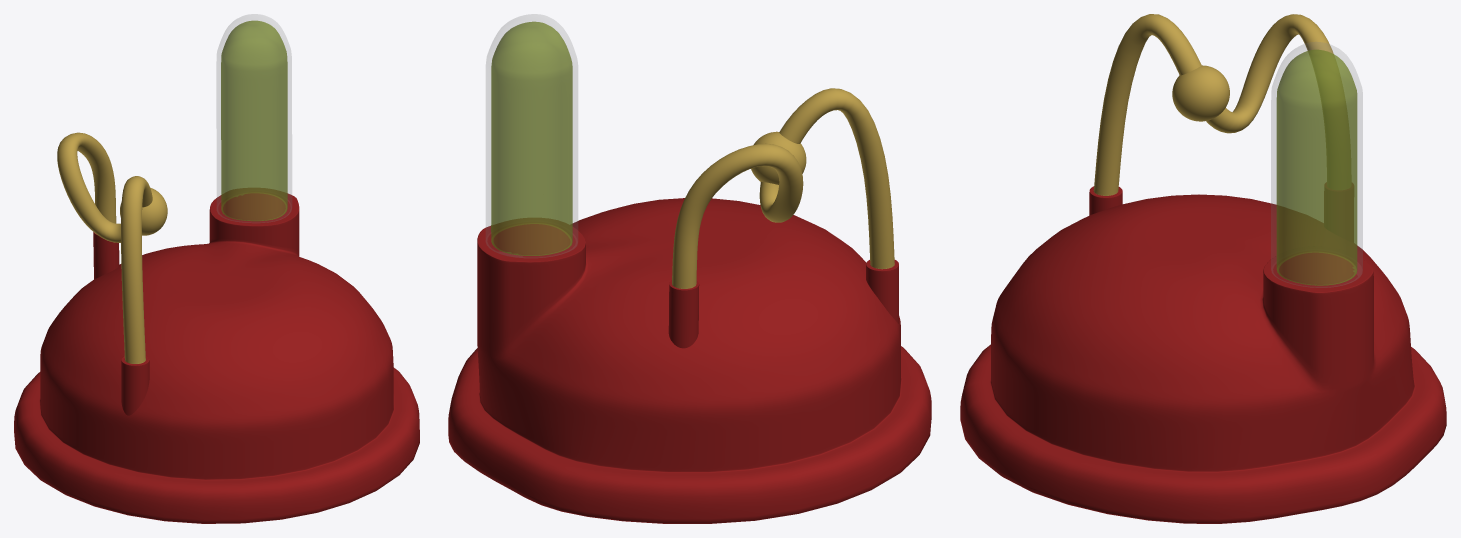
Rendered from TowerBase.fbx.
The picture shows the model from 3 angles, left to right: view 1: azimuth 30°, elevation 25°; view 2: azimuth 150°, elevation 25°; view 3: azimuth 270°, elevation 25°; orthographic projection. The views are drawn at different scales.
Parts seen in each view (by area): view 1: pCylinder1, pCylinder2, pCylinder3, pCylinder5, pSphere1; view 2: pCylinder1, pCylinder2, pCylinder3, pCylinder5, pSphere1; view 3: pCylinder1, pCylinder2, pCylinder3, pCylinder5, pSphere1.
Part boxes in pixels (x1,y1,x2,y2): pCylinder1: (14, 188, 419, 523); pCylinder2: (216, 14, 291, 222); pCylinder3: (221, 20, 287, 221); pCylinder5: (57, 132, 152, 415); pSphere1: (120, 188, 167, 235); pCylinder1: (448, 198, 931, 523); pCylinder2: (486, 14, 577, 257); pCylinder3: (491, 21, 572, 255); pCylinder5: (668, 88, 898, 348); pSphere1: (751, 131, 806, 184); pCylinder1: (960, 194, 1446, 523); pCylinder2: (1271, 42, 1362, 287); pCylinder3: (1276, 49, 1357, 285); pCylinder5: (1089, 14, 1353, 241); pSphere1: (1172, 65, 1229, 121).
Size of the model in its own units: 9.19 by 8.96 by 9.26.
